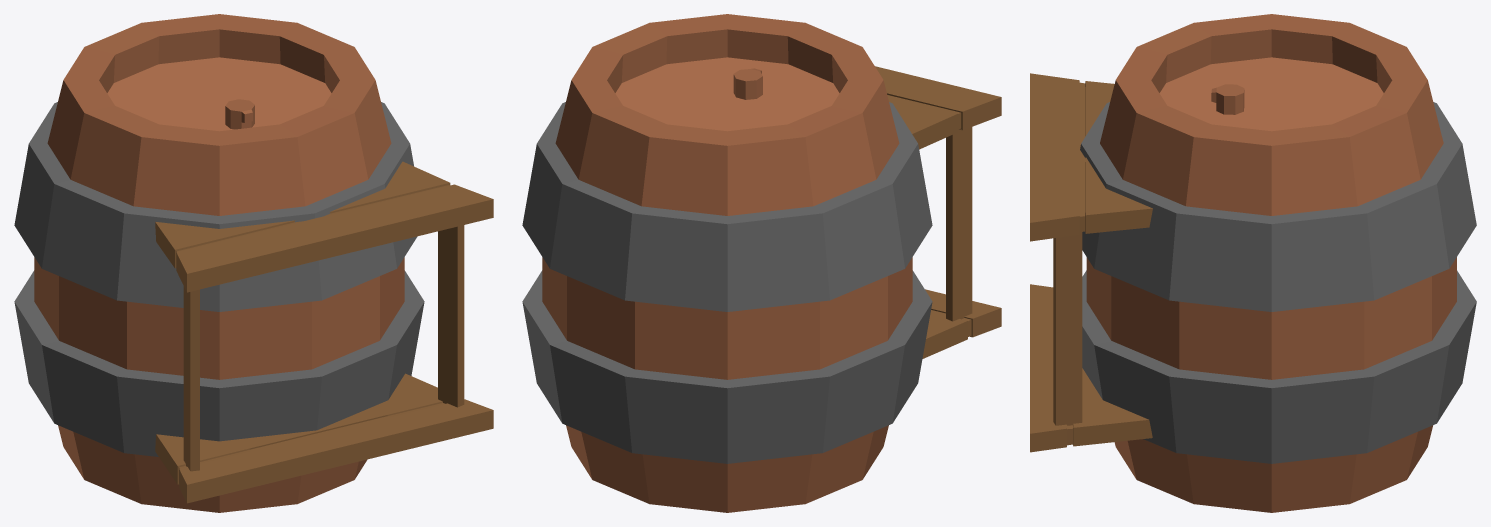
File: barrel_wine.glb
3 views of the same model, side by side, from view 1: azimuth 30°, elevation 25°; view 2: azimuth 150°, elevation 25°; view 3: azimuth 270°, elevation 25° (orthographic).
Parts seen in each view (by area): view 1: barrel_wine; view 2: barrel_wine; view 3: barrel_wine.
Boxes of the visible parts, box(x1,y1,x2,y2) form: barrel_wine: box(14, 14, 493, 512); barrel_wine: box(522, 14, 1001, 512); barrel_wine: box(1030, 14, 1476, 512).
Size of the model in its own units: 0.4317 by 0.4262 by 0.4701.
Materials: 1 (1 with a texture image).
